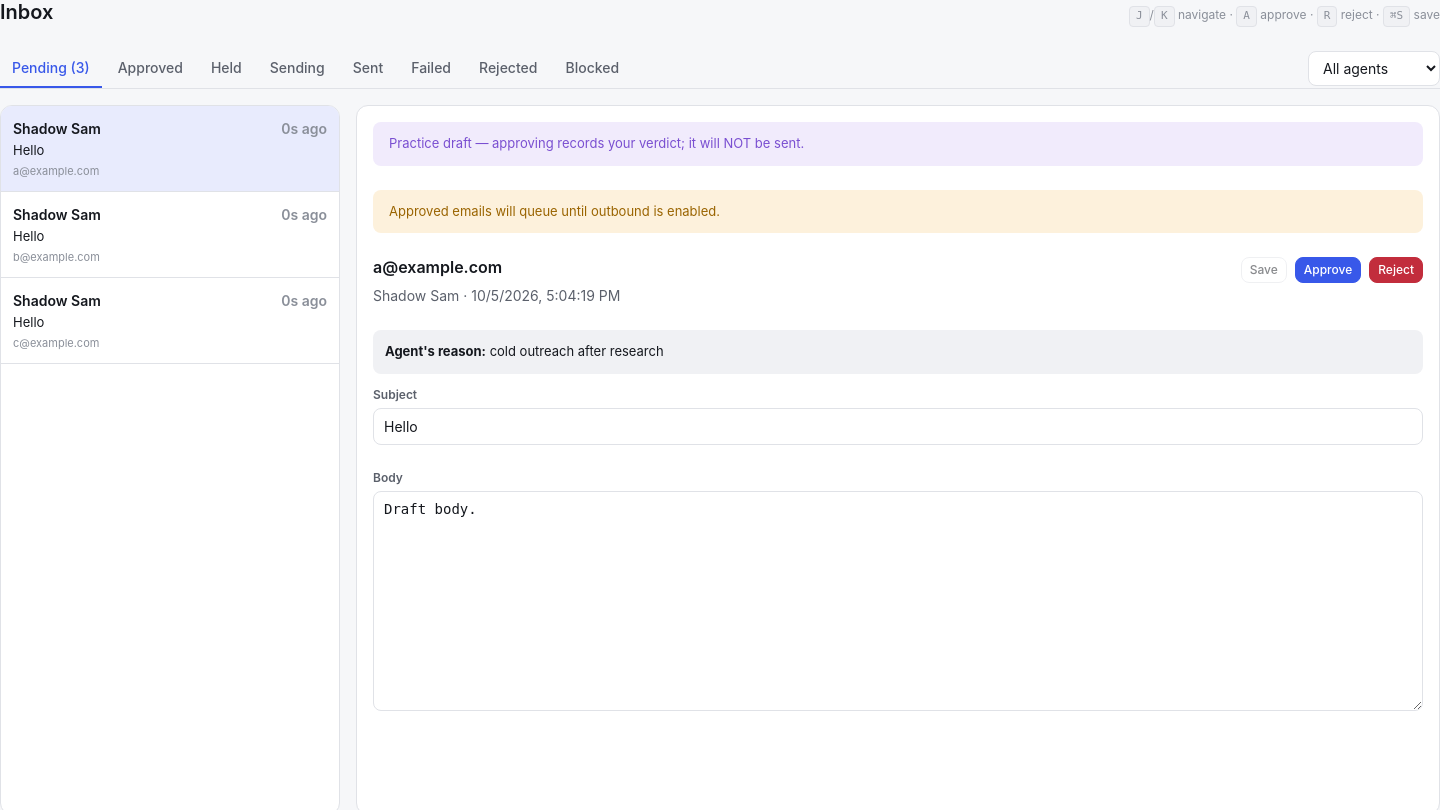
Scenario: Inbox approval flow › works the queue oldest-first and moves to the next draft after a decision
Check: the heading "a@example.com" is shown, box left=373, top=257, right=502, bottom=277
Press j
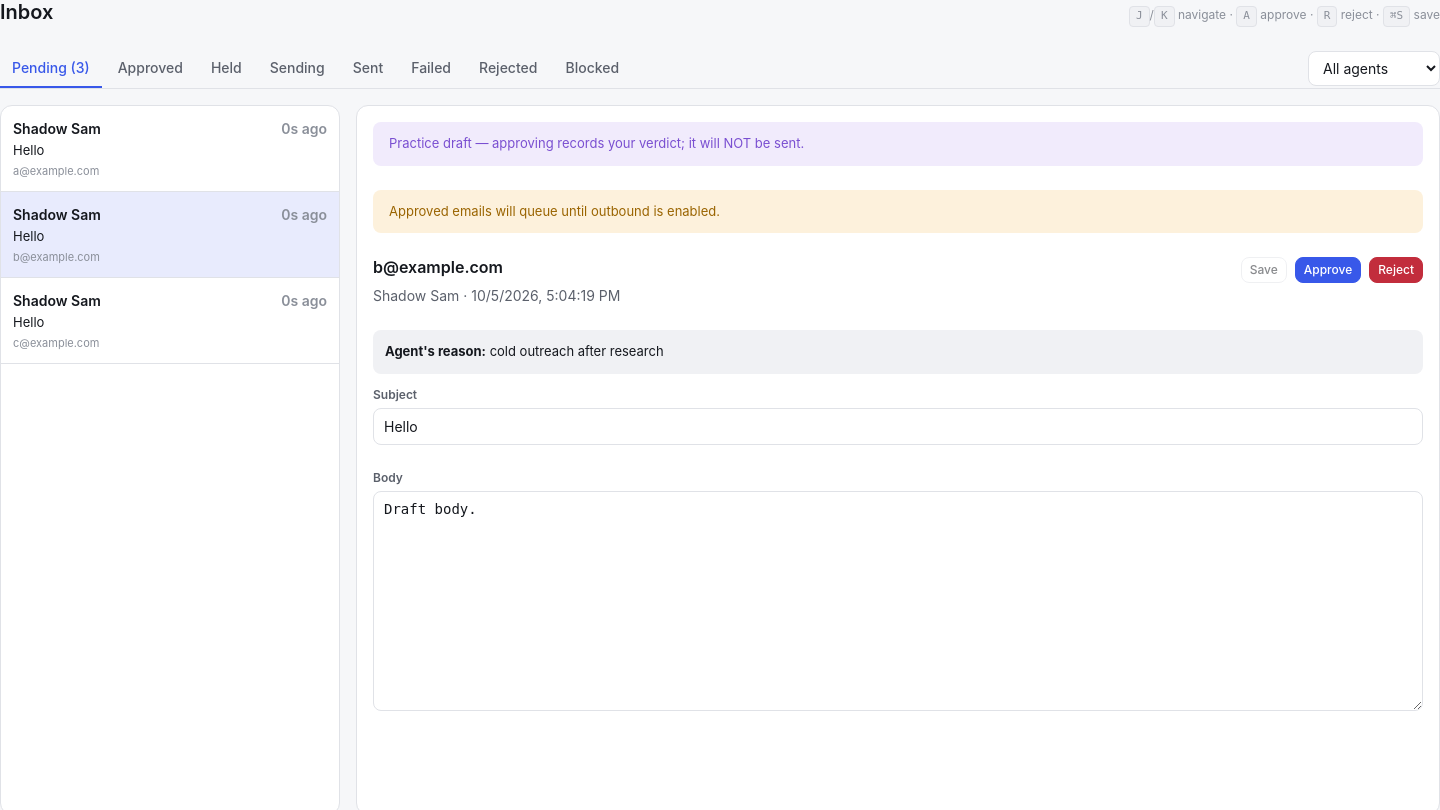
Check: the heading "b@example.com" is shown, box left=373, top=257, right=503, bottom=277
Click the button "Approve" at (1328, 270), box left=1295, top=257, right=1361, bottom=283
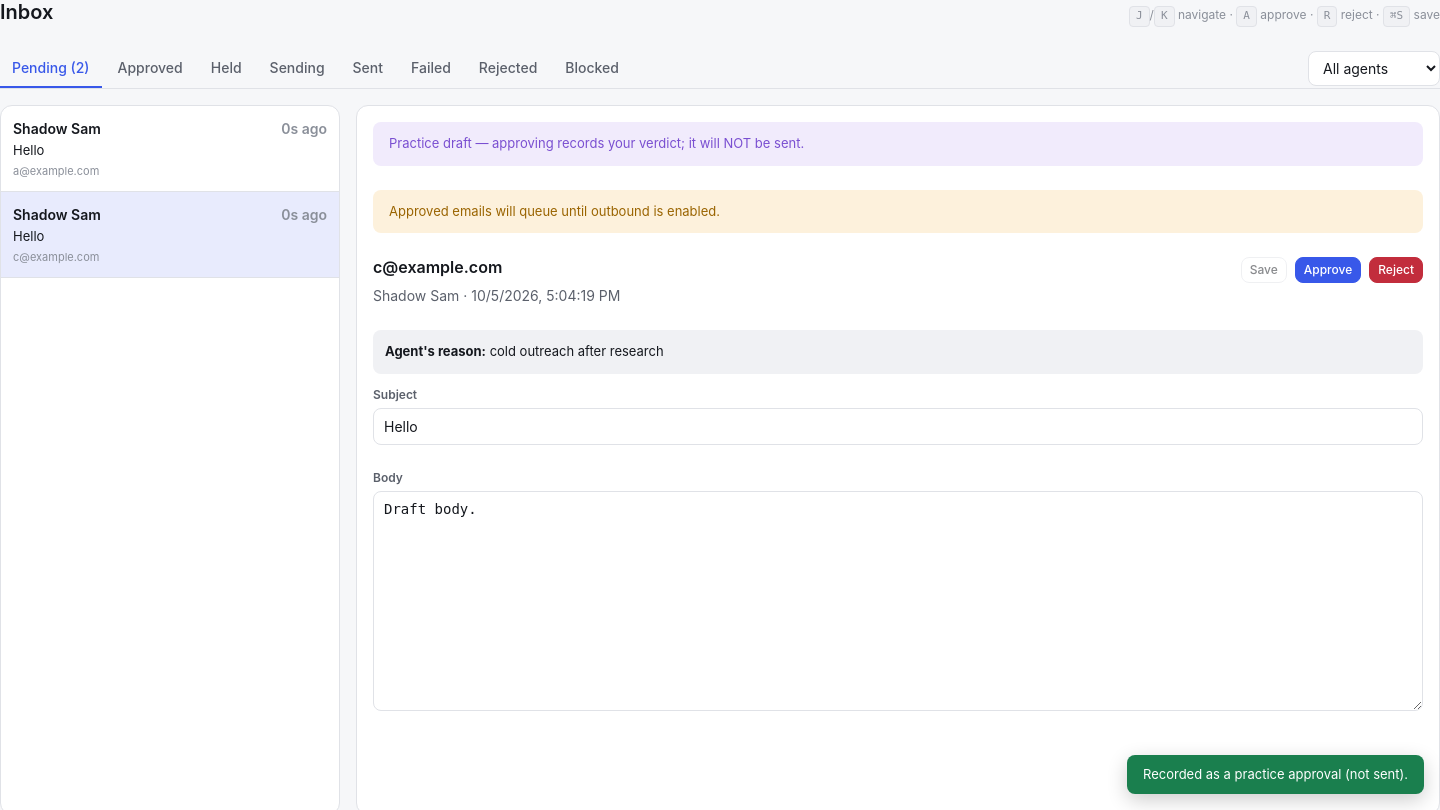
Check: the heading "c@example.com" is shown, box left=373, top=257, right=502, bottom=277
